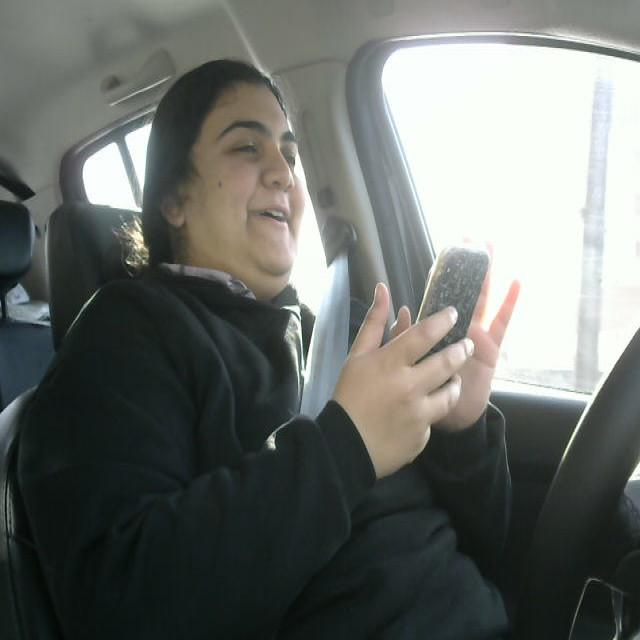mobile use: (408, 244, 495, 380)
